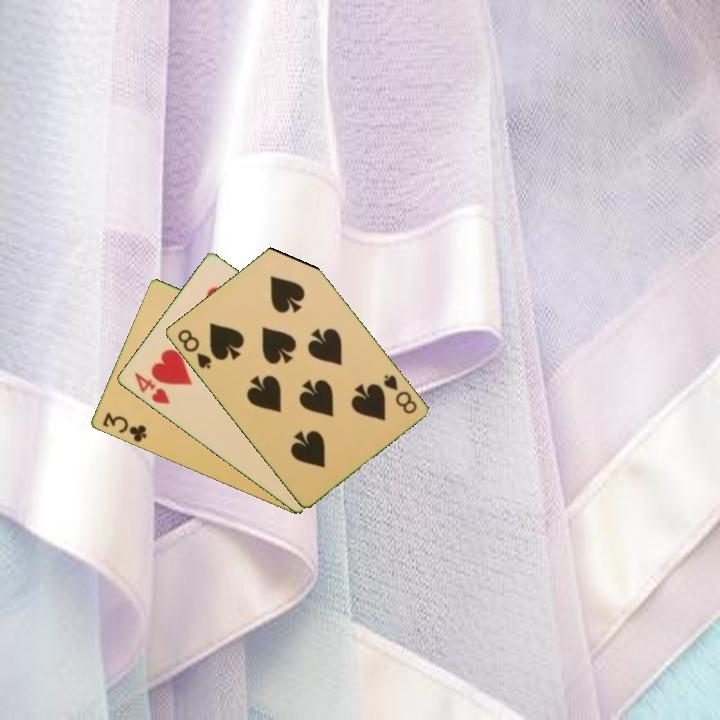3c: (99, 409, 149, 445)
4h: (131, 369, 173, 407)
8s: (379, 371, 420, 417), (174, 325, 214, 372)
